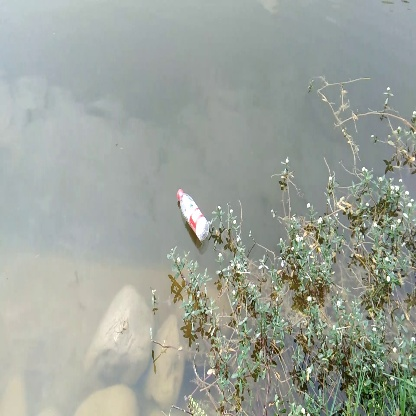bottle: (174, 186, 215, 245)
